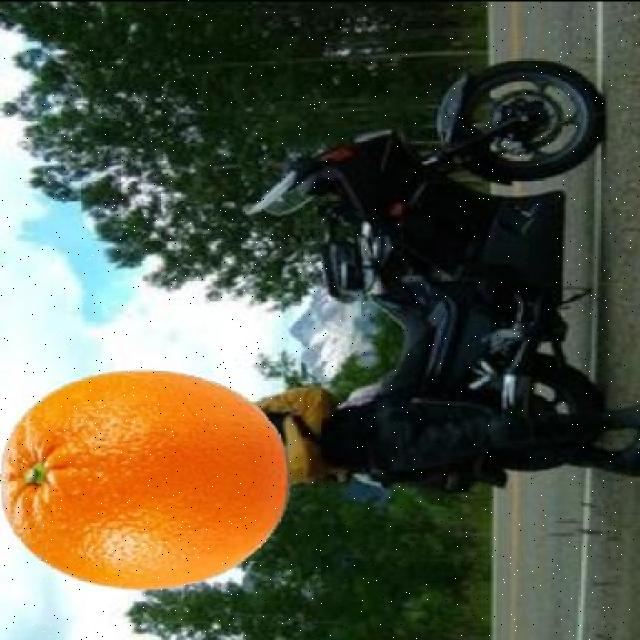Orange: (0, 368, 291, 590)
